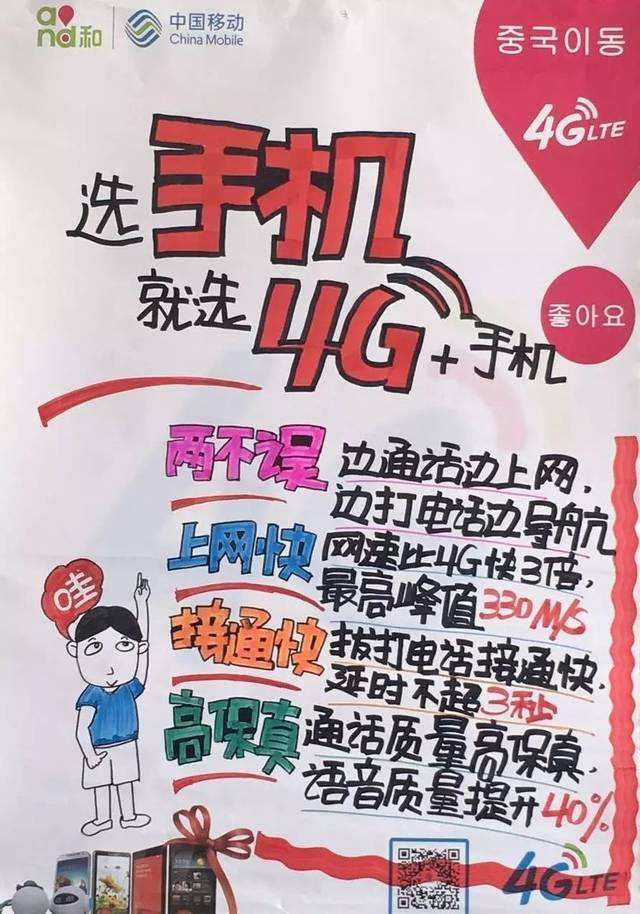bill: (2, 1, 638, 914)
